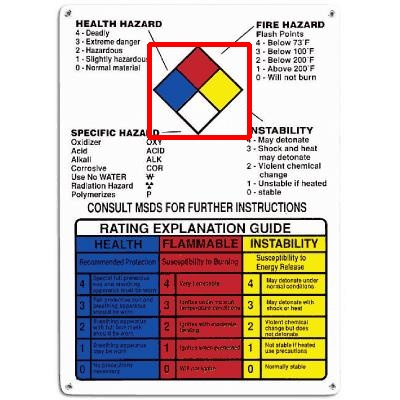nfpa: (149, 44, 249, 137)
